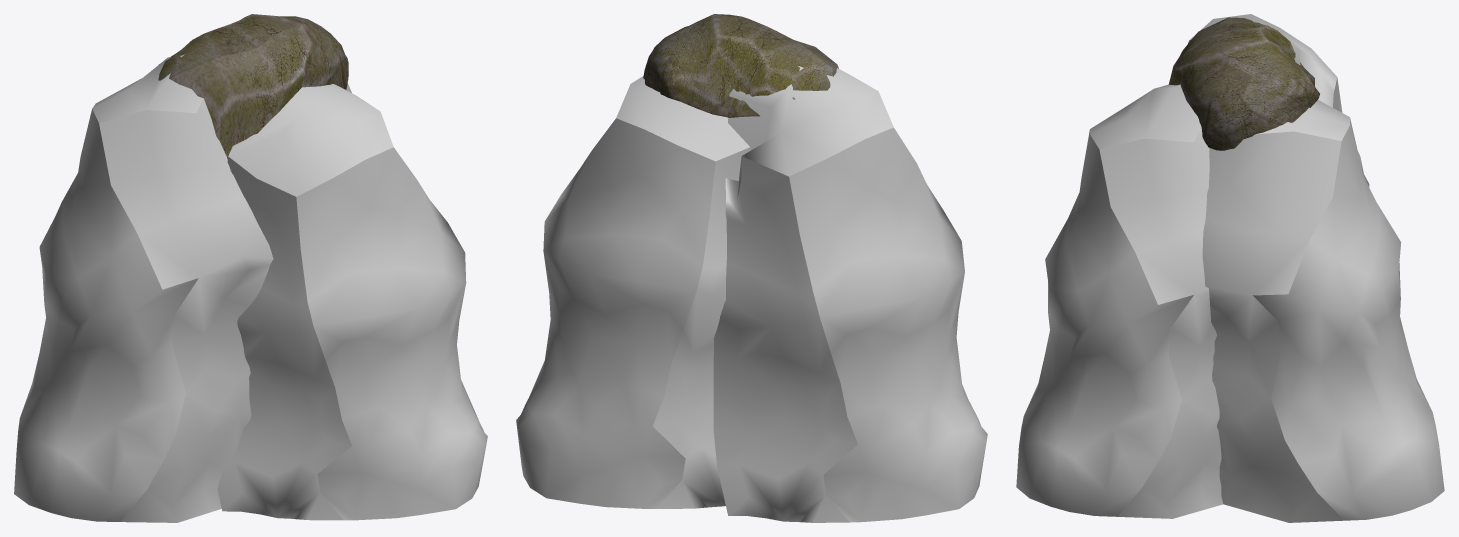
The model's file is stone.fbx.
3 renders of one model, left to right at view 1: azimuth 30°, elevation 25°; view 2: azimuth 150°, elevation 25°; view 3: azimuth 270°, elevation 25°, orthographic. The views are drawn at different scales.
Parts seen in each view (by area): view 1: stone2, Cube_013; view 2: stone2, Cube_013; view 3: stone2, Cube_013.
Boxes of the visible parts, x1,y1,x2,y2 form: stone2: (14, 54, 487, 522); Cube_013: (158, 14, 348, 174); stone2: (516, 65, 987, 522); Cube_013: (643, 14, 838, 117); stone2: (1016, 14, 1444, 522); Cube_013: (1168, 17, 1319, 150).
Bounding box in the file's own units: 0.5363 × 0.5351 × 0.503.
